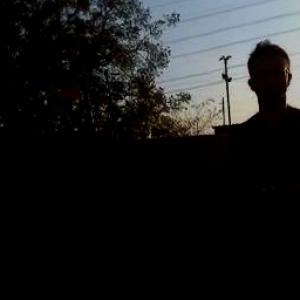follow: (212, 40, 300, 299)
